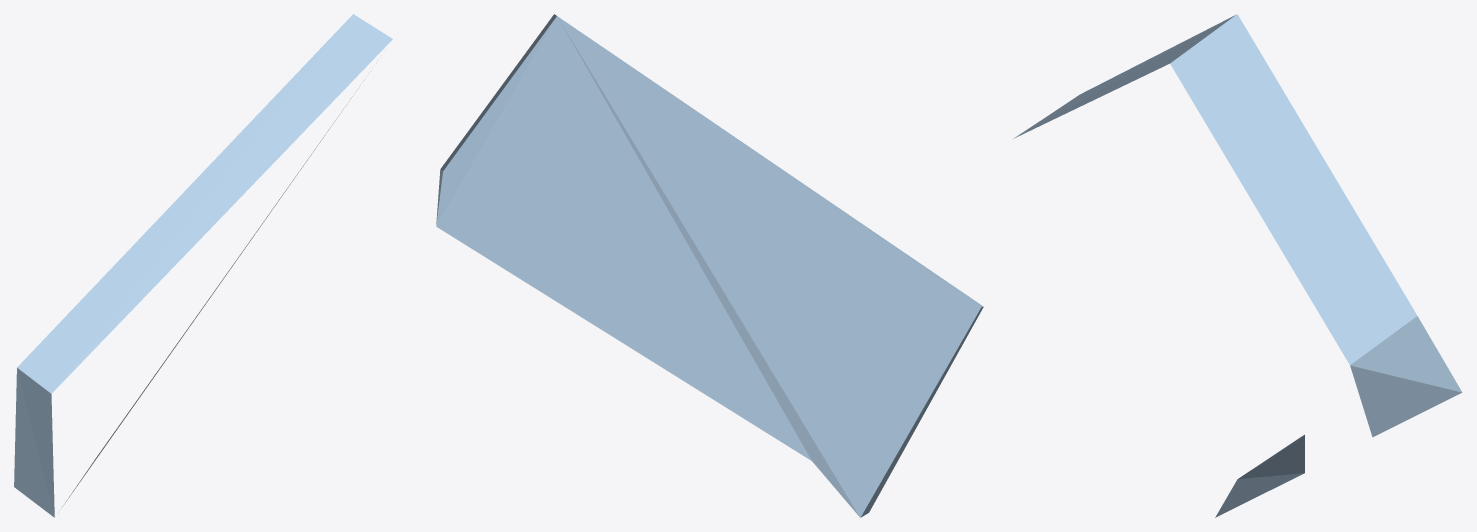
The picture shows the model from 3 angles, left to right: view 1: azimuth 30°, elevation 25°; view 2: azimuth 150°, elevation 25°; view 3: azimuth 270°, elevation 25°; orthographic projection. The views are drawn at different scales.
Visible parts, largest first — view 1: geometry_0; view 2: geometry_0; view 3: geometry_0.
Part boxes in pixels (x1=…): geometry_0: x1=14, y1=14, x2=392, y2=517; geometry_0: x1=436, y1=14, x2=983, y2=517; geometry_0: x1=1013, y1=14, x2=1462, y2=517.
Size of the model in its own units: 21.75 by 19 by 10.
